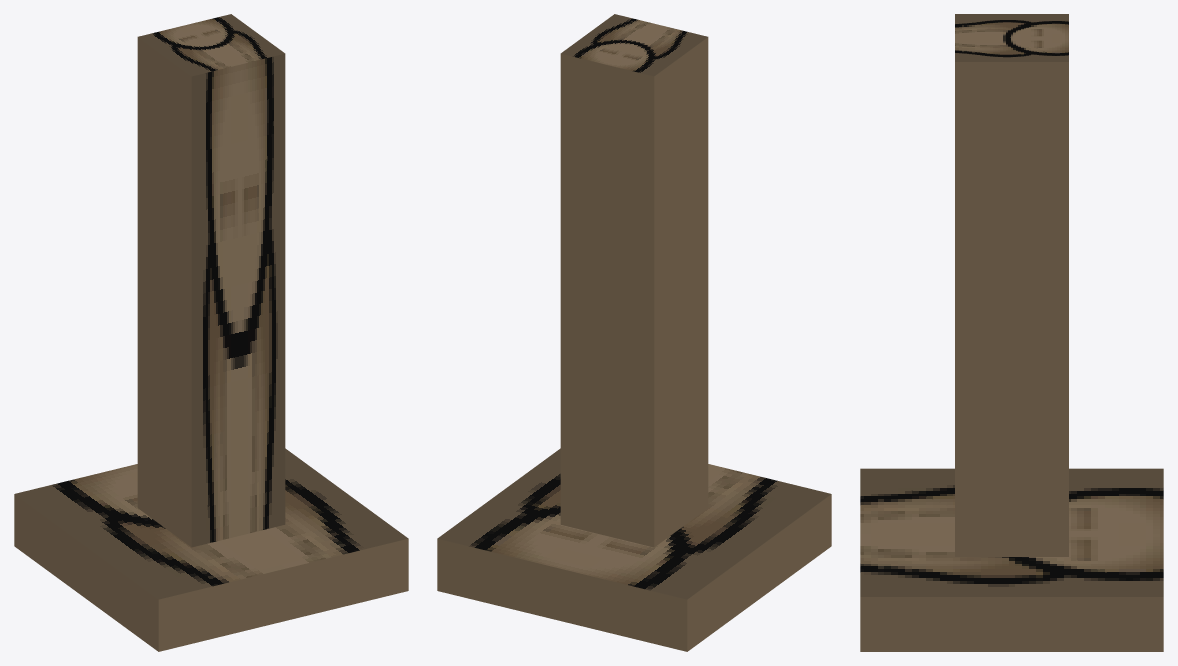
Rendered from Building_Effigy.glb.
3 renders of one model, left to right at view 1: azimuth 30°, elevation 25°; view 2: azimuth 150°, elevation 25°; view 3: azimuth 270°, elevation 25°, orthographic. The views are drawn at different scales.
Visible parts, largest first — view 1: Effigy; view 2: Effigy; view 3: Effigy.
Boxes of the visible parts, x1=… form: Effigy: x1=14, y1=14, x2=408, y2=651; Effigy: x1=437, y1=14, x2=831, y2=651; Effigy: x1=860, y1=14, x2=1163, y2=651.
Size of the model in its own units: 0.8 by 1.6 by 0.8.
Materials: 1 (1 with a texture image).
